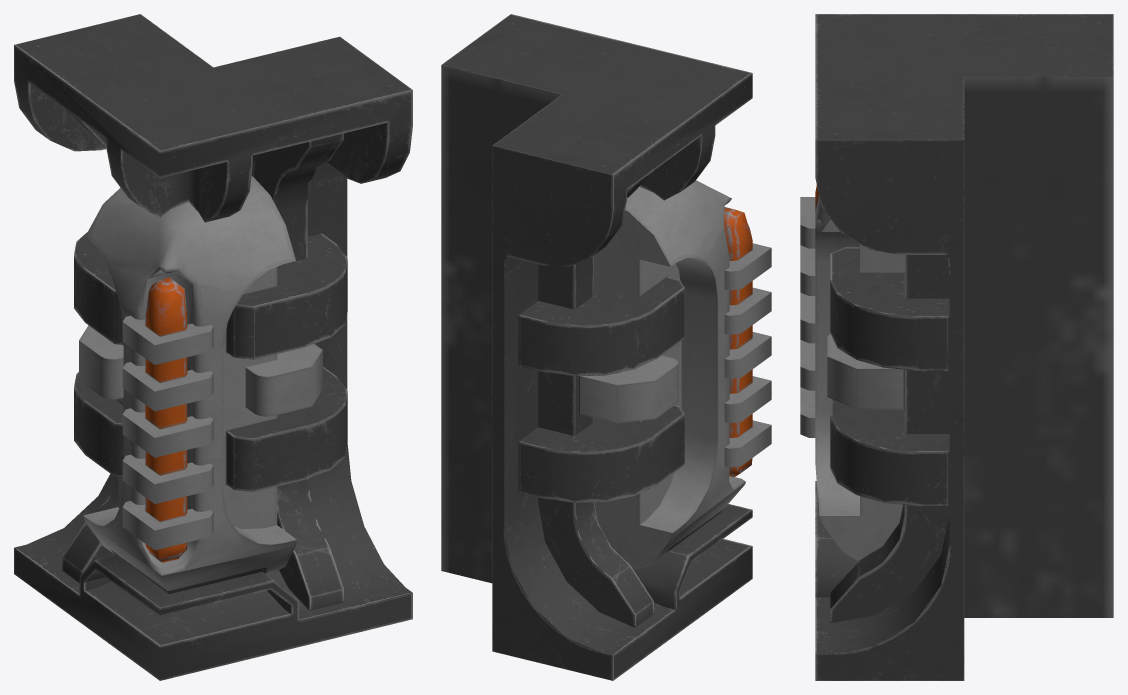
File: tile_wall10_ConerOut.FBX
The picture shows the model from 3 angles, left to right: view 1: azimuth 30°, elevation 25°; view 2: azimuth 150°, elevation 25°; view 3: azimuth 270°, elevation 25°; orthographic projection. The views are drawn at different scales.
Parts seen in each view (by area): view 1: tile_wall10_ConerOut; view 2: tile_wall10_ConerOut; view 3: tile_wall10_ConerOut.
Boxes of the visible parts, bbox=[...] form: tile_wall10_ConerOut: bbox=[14, 14, 412, 680]; tile_wall10_ConerOut: bbox=[441, 14, 771, 680]; tile_wall10_ConerOut: bbox=[800, 14, 1113, 680].
Size of the model in its own units: 105 by 200 by 105.
1 material, 1 textured.
